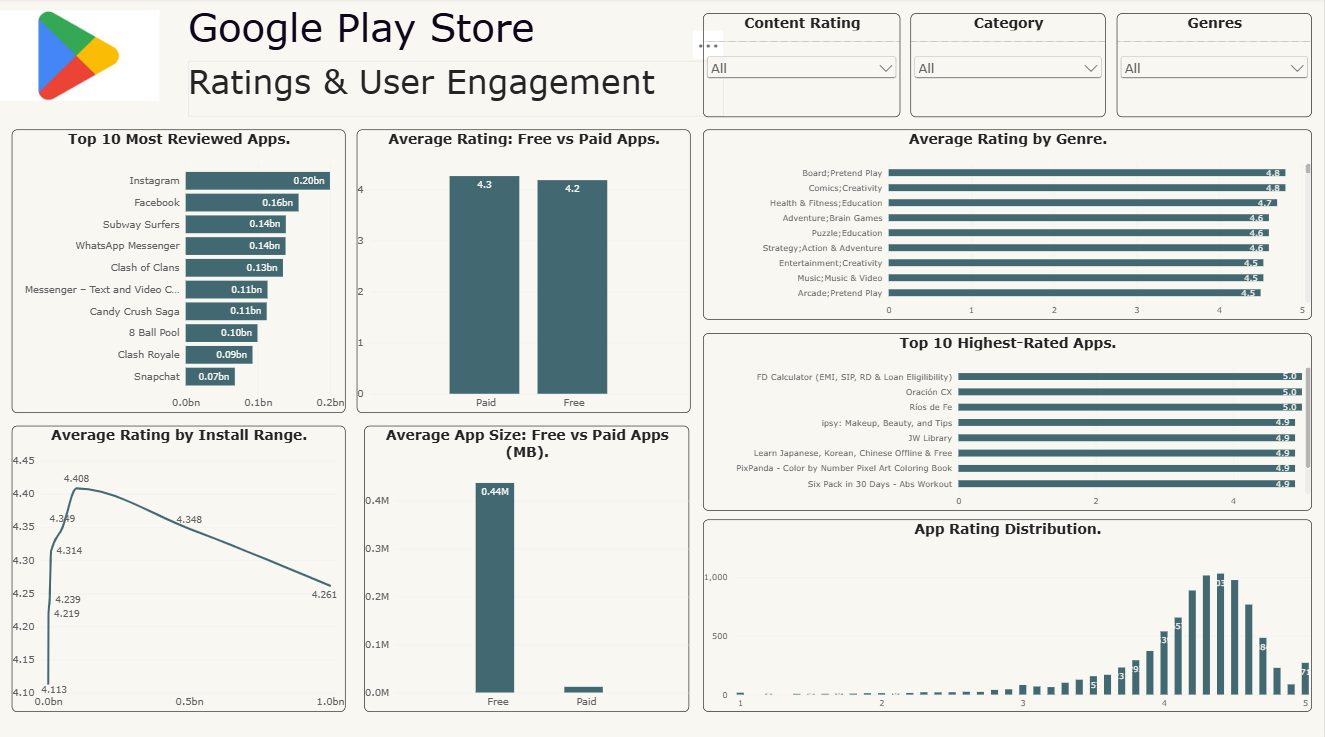

The page's visual inventory and layout, read from the dashboard file:
{"tool":"powerbi","page":{"name":"3.Ratings & User Engagement","canvas":[1920,1080],"ordinal":2},"visuals":[{"type":"textbox","box":[275.1,92.3,776.3,81.4],"z":0},{"type":"columnChart","title":"App Rating Distribution.","fields":{"Category":["googleplaystore.Rating"],"Y":["CountNonNull(googleplaystore.App)"]},"box":[1020.6,756.4,881.3,278.7],"z":1000},{"type":"lineChart","title":"Average Rating by Install Range.","fields":{"Category":["googleplaystore.Installs (bins)"],"Y":["Avg(googleplaystore.Rating)"]},"box":[19.9,620.7,483.2,414.4],"z":2000},{"type":"clusteredBarChart","title":"Top 10 Highest-Rated Apps.","fields":{"Category":["googleplaystore.App"],"Y":["Avg(googleplaystore.Rating)"]},"box":[1020.6,486.8,881.3,257],"z":3000},{"type":"clusteredBarChart","title":"Top 10 Most Reviewed Apps.","fields":{"Category":["googleplaystore.App"],"Y":["Sum(googleplaystore.Reviews)"]},"box":[19.9,191.8,483.2,410.8],"z":4000},{"type":"clusteredBarChart","title":"Average Rating by Genre.","fields":{"Category":["googleplaystore.Genres"],"Y":["Avg(googleplaystore.Rating)"]},"box":[1020.6,191.8,881.3,275.1],"z":5000},{"type":"clusteredColumnChart","title":"Average Rating: Free vs Paid Apps.","fields":{"Category":["googleplaystore.Type"],"Y":["Avg(googleplaystore.Rating)"]},"box":[519.4,191.8,483.2,410.8],"z":6000},{"type":"clusteredColumnChart","title":"Average App Size: Free vs Paid Apps (MB).","fields":{"Category":["googleplaystore.Type"],"Y":["googleplaystore.Average Reviews"]},"box":[530.2,620.7,470.5,414.4],"z":7000},{"type":"image","box":[0,9,233.4,152],"z":8000},{"type":"textbox","box":[275.1,9,597.2,94.1],"z":9000},{"type":"slicer","title":"Content Rating","fields":{"Values":["googleplaystore.Content Rating"]},"box":[1020.6,23.5,285.9,150.2],"z":9001},{"type":"slicer","title":"Category","fields":{"Values":["googleplaystore.Category"]},"box":[1321.1,23.5,282.3,150.2],"z":9002},{"type":"slicer","title":"Genres","fields":{"Values":["googleplaystore.Genres"]},"box":[1619.6,23.5,282.3,150.2],"z":9003}]}

Visuals, with their boxes in screenshot pixels (x1, y1, x2, y2), scaled from the page's 1920x1080 canvas onto the 1325x737 screenshot:
textbox: (190, 63, 726, 119)
"App Rating Distribution." columnChart: (704, 516, 1313, 706)
"Average Rating by Install Range." lineChart: (14, 424, 347, 706)
"Top 10 Highest-Rated Apps." clusteredBarChart: (704, 332, 1313, 508)
"Top 10 Most Reviewed Apps." clusteredBarChart: (14, 131, 347, 411)
"Average Rating by Genre." clusteredBarChart: (704, 131, 1313, 319)
"Average Rating: Free vs Paid Apps." clusteredColumnChart: (358, 131, 692, 411)
"Average App Size: Free vs Paid Apps (MB)." clusteredColumnChart: (366, 424, 691, 706)
image: (0, 6, 161, 110)
textbox: (190, 6, 602, 70)
"Content Rating" slicer: (704, 16, 902, 119)
"Category" slicer: (912, 16, 1107, 119)
"Genres" slicer: (1118, 16, 1313, 119)
